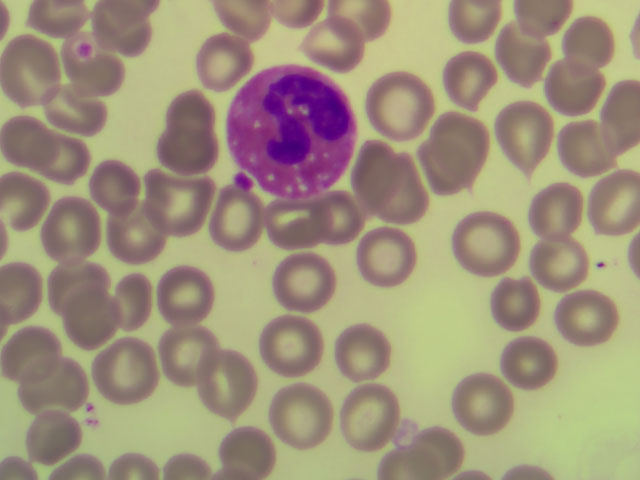RBC: (163, 90, 222, 169), (496, 98, 551, 175), (197, 348, 255, 416), (156, 264, 222, 321), (19, 357, 85, 414), (421, 133, 487, 190), (363, 155, 429, 212), (305, 191, 371, 248), (103, 197, 169, 254), (145, 171, 211, 228), (43, 199, 109, 256), (46, 260, 112, 317), (55, 287, 121, 344), (451, 215, 517, 272), (354, 228, 420, 285), (450, 373, 516, 430), (340, 388, 406, 445), (270, 384, 336, 441), (157, 325, 223, 382), (92, 340, 158, 397), (260, 314, 326, 371), (272, 252, 338, 309), (364, 73, 430, 130), (530, 235, 596, 292), (557, 289, 623, 346), (59, 32, 125, 89), (42, 78, 108, 135), (28, 127, 94, 184), (1, 113, 66, 170), (91, 1, 157, 56), (210, 187, 259, 257), (1, 39, 57, 100), (588, 171, 640, 235), (498, 22, 549, 87), (333, 322, 392, 378), (543, 60, 600, 116), (583, 101, 640, 157), (562, 14, 619, 70), (438, 51, 495, 107), (530, 180, 588, 235), (259, 202, 323, 250), (193, 35, 257, 83), (301, 17, 365, 65), (553, 119, 617, 167), (491, 272, 538, 326), (1, 324, 59, 367), (221, 421, 264, 478), (503, 340, 555, 386), (1, 174, 46, 227), (24, 411, 76, 456), (408, 426, 462, 468), (328, 1, 389, 37), (376, 446, 440, 480), (1, 263, 39, 320), (26, 1, 89, 34), (507, 1, 568, 35), (447, 1, 497, 41), (101, 450, 167, 480)
WBC: (232, 72, 354, 192)
